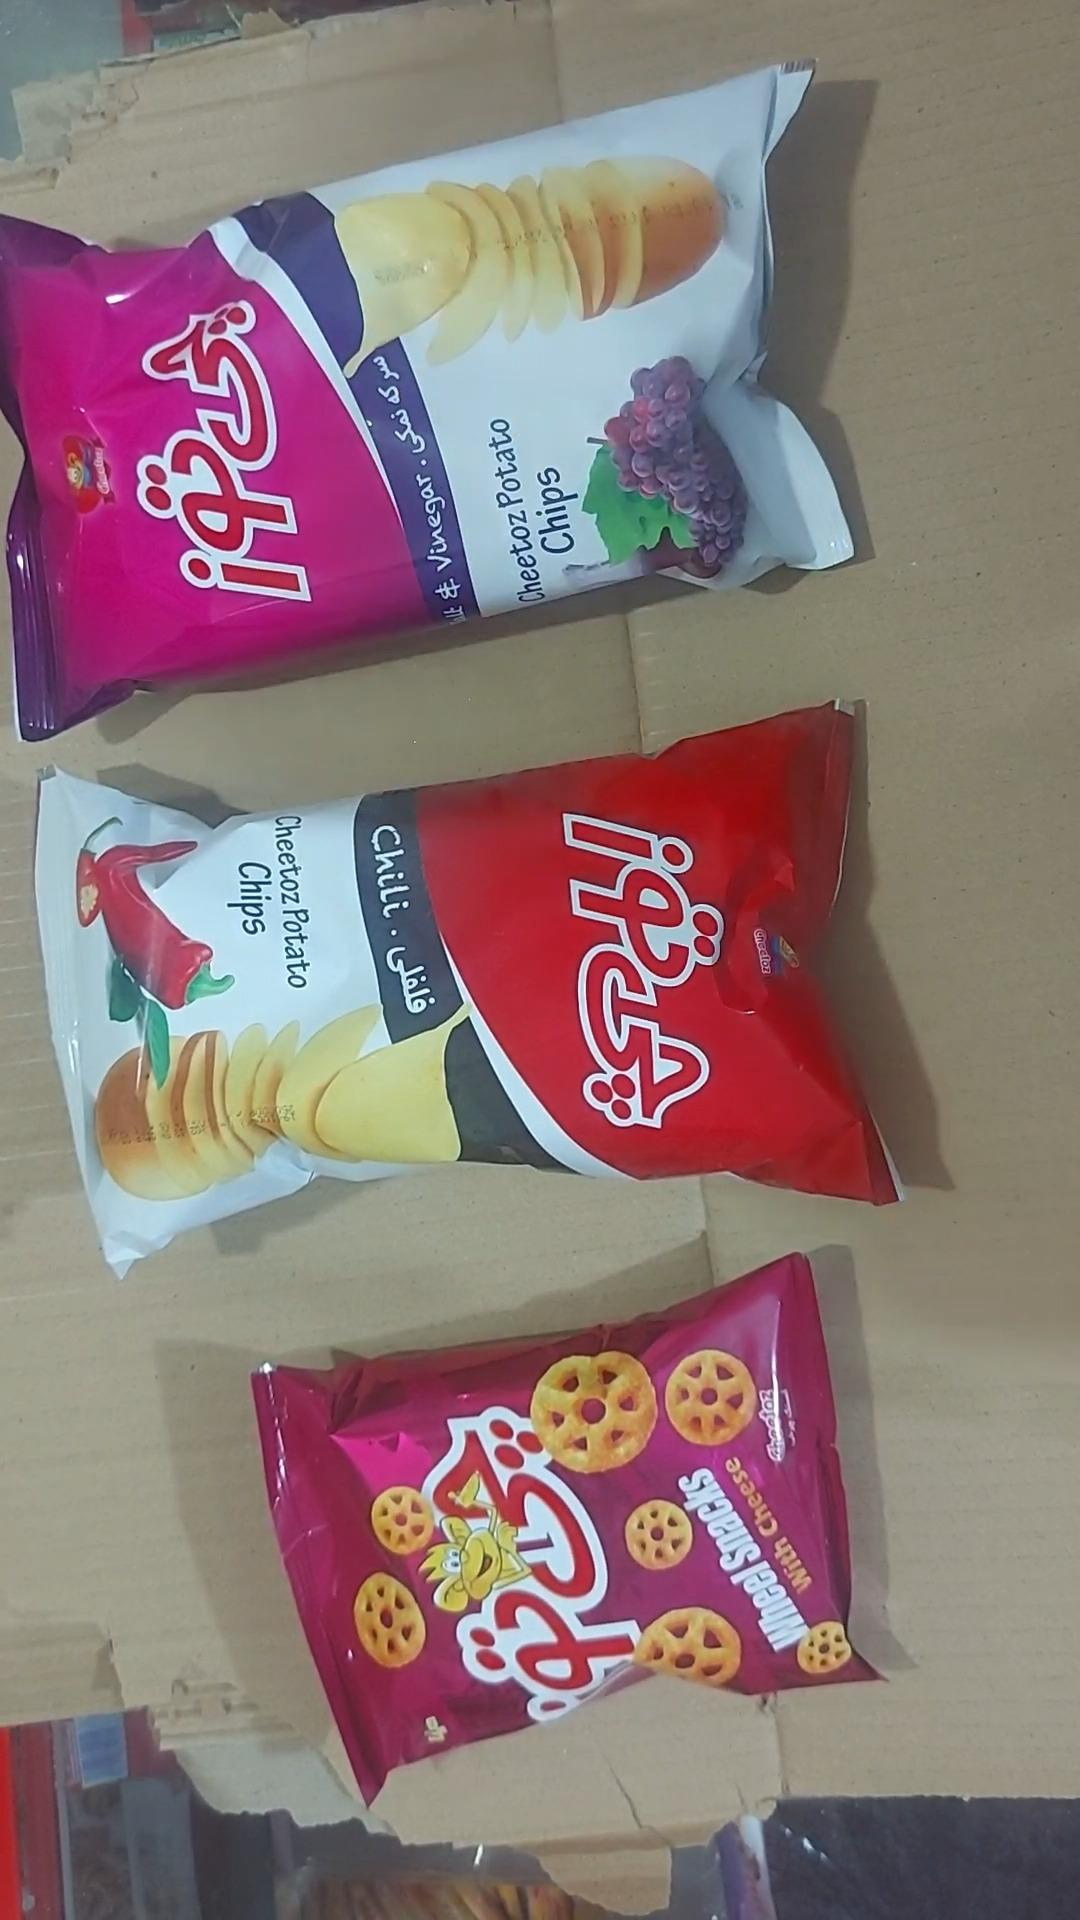Cheetoz chili chips: (34, 705, 901, 1278)
Cheetoz vinegar chips: (0, 61, 872, 746)
Cheetoz wheelsnack: (251, 1255, 878, 1807)
